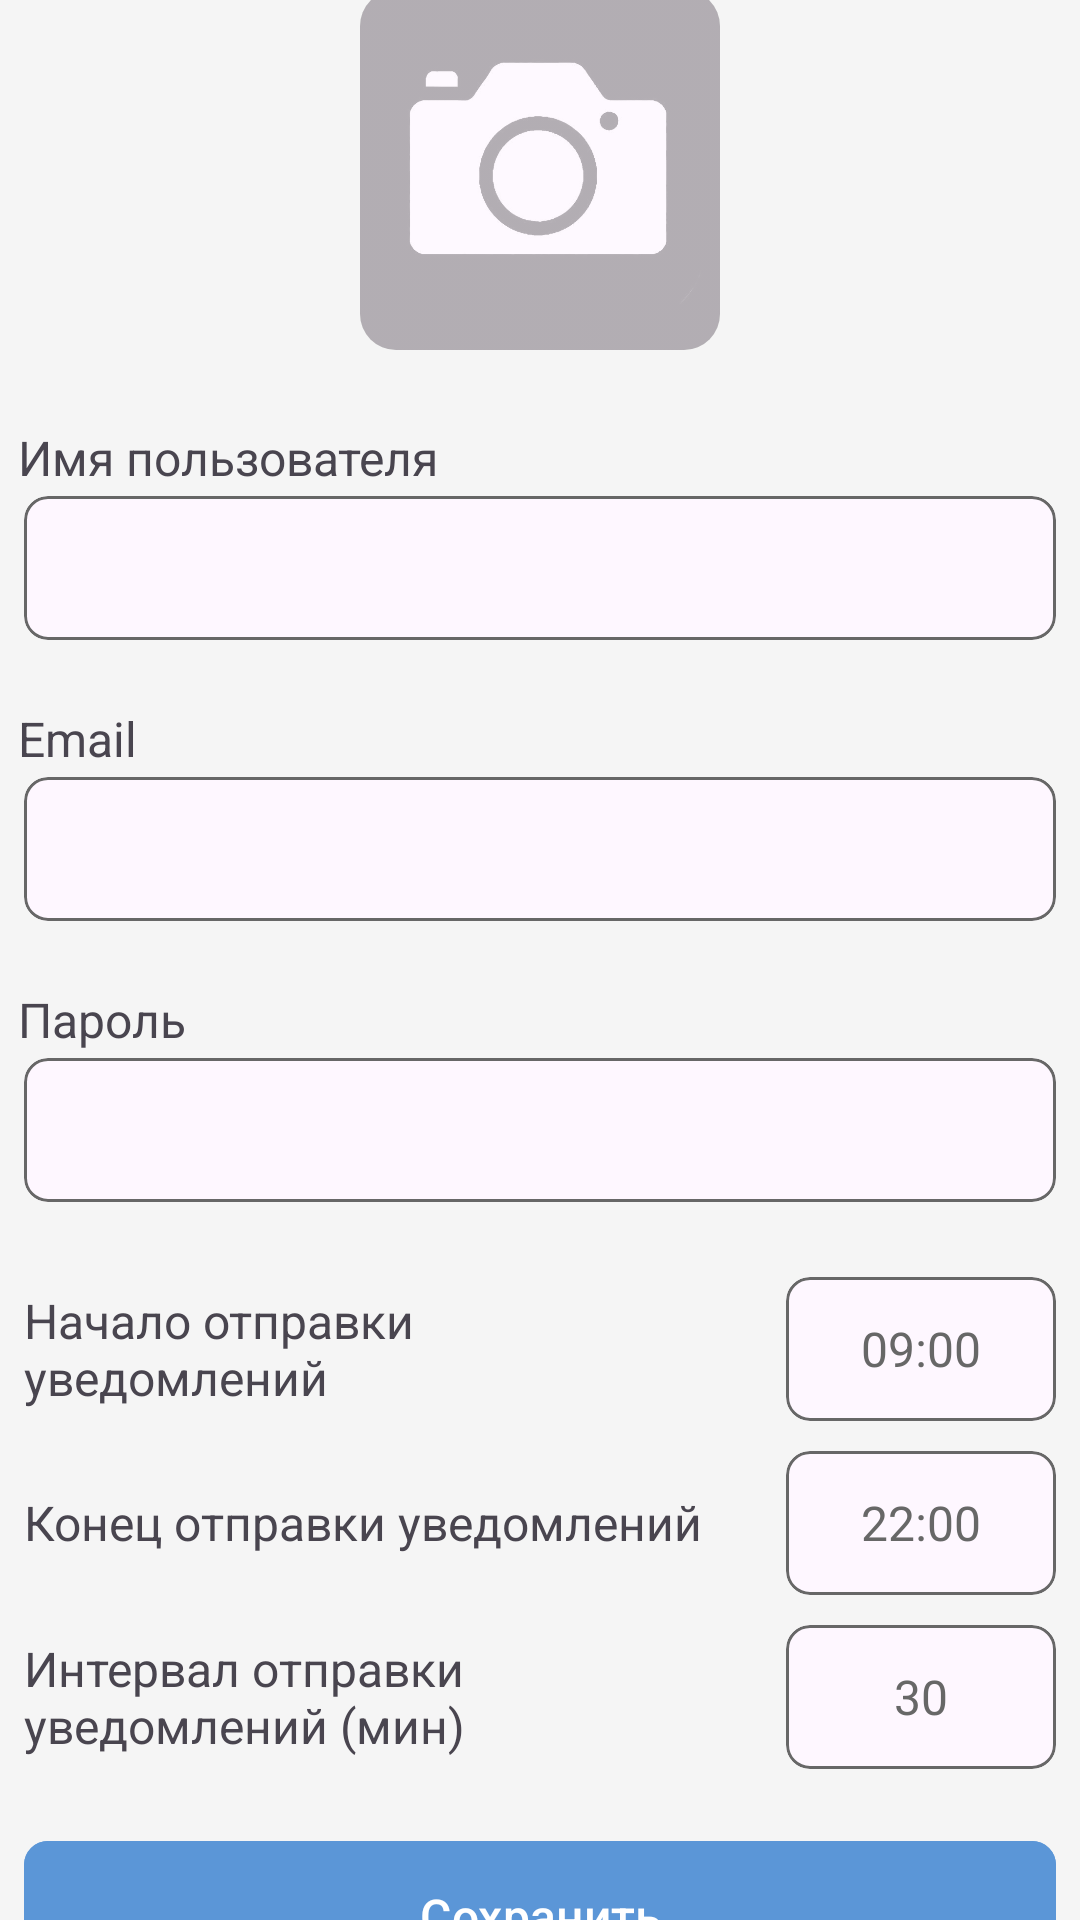

Screen size 1080w x 1920h. Icon name, then its center in pixels as (x,y):
camera: (540,175)
